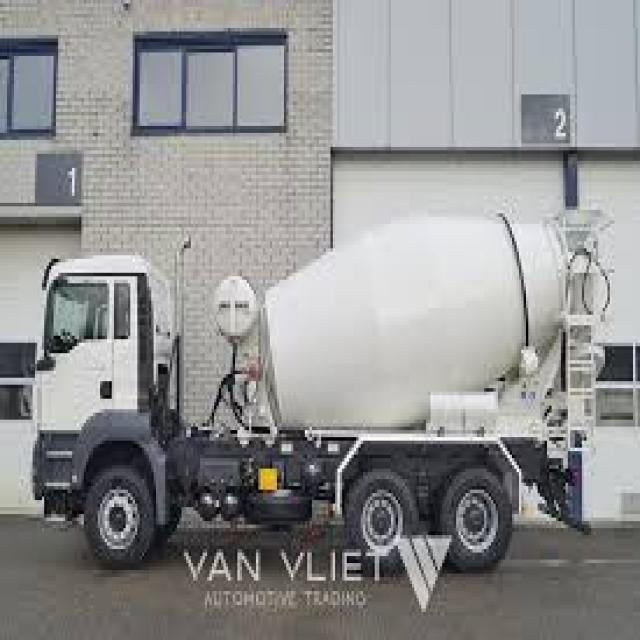Mixer Truck: (31, 209, 615, 576)
